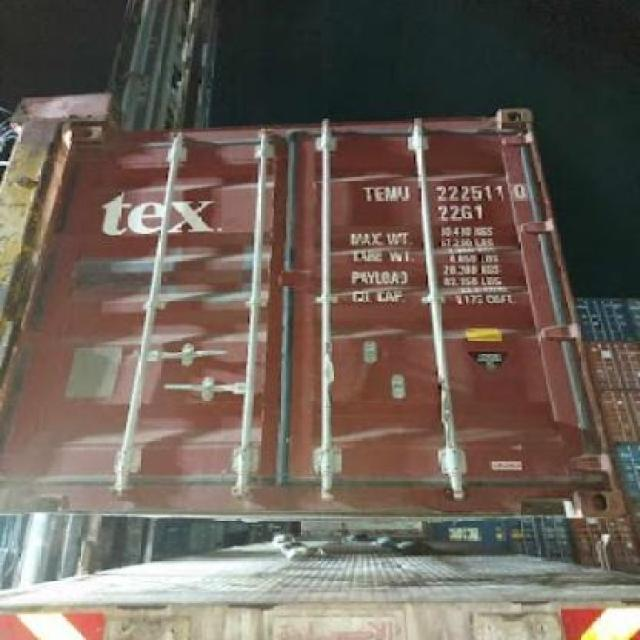ISO: (436, 204, 484, 218)
container_number: (362, 180, 522, 202)
